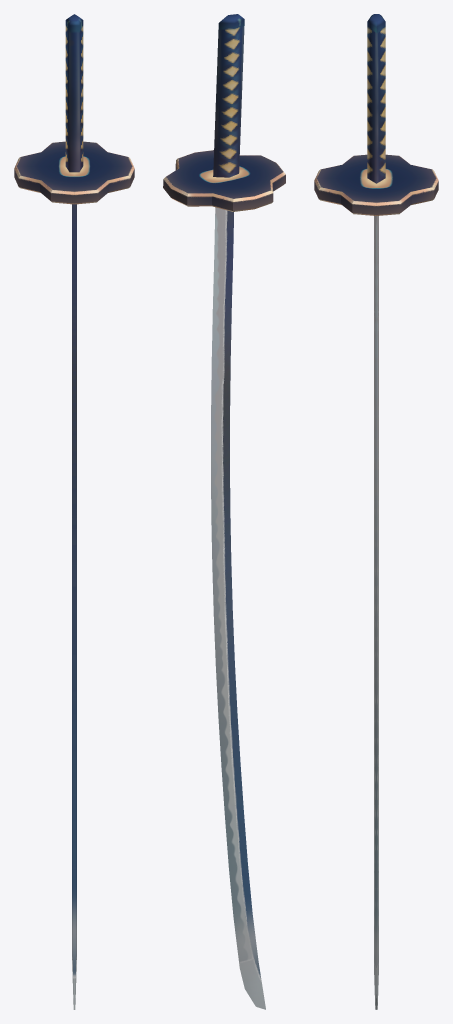
3 views of the same model, side by side, from view 1: azimuth 90°, elevation 25°; view 2: azimuth 210°, elevation 25°; view 3: azimuth 270°, elevation 25° (orthographic). The views are drawn at different scales.
Visible parts, largest first — view 1: A_7D5; view 2: A_7D5; view 3: A_7D5.
Part boxes in pixels (x1=…): A_7D5: x1=14, y1=14, x2=134, y2=1009; A_7D5: x1=163, y1=14, x2=285, y2=1009; A_7D5: x1=314, y1=14, x2=438, y2=1009.
Size of the model in its own units: 22.1 by 197 by 22.08.
